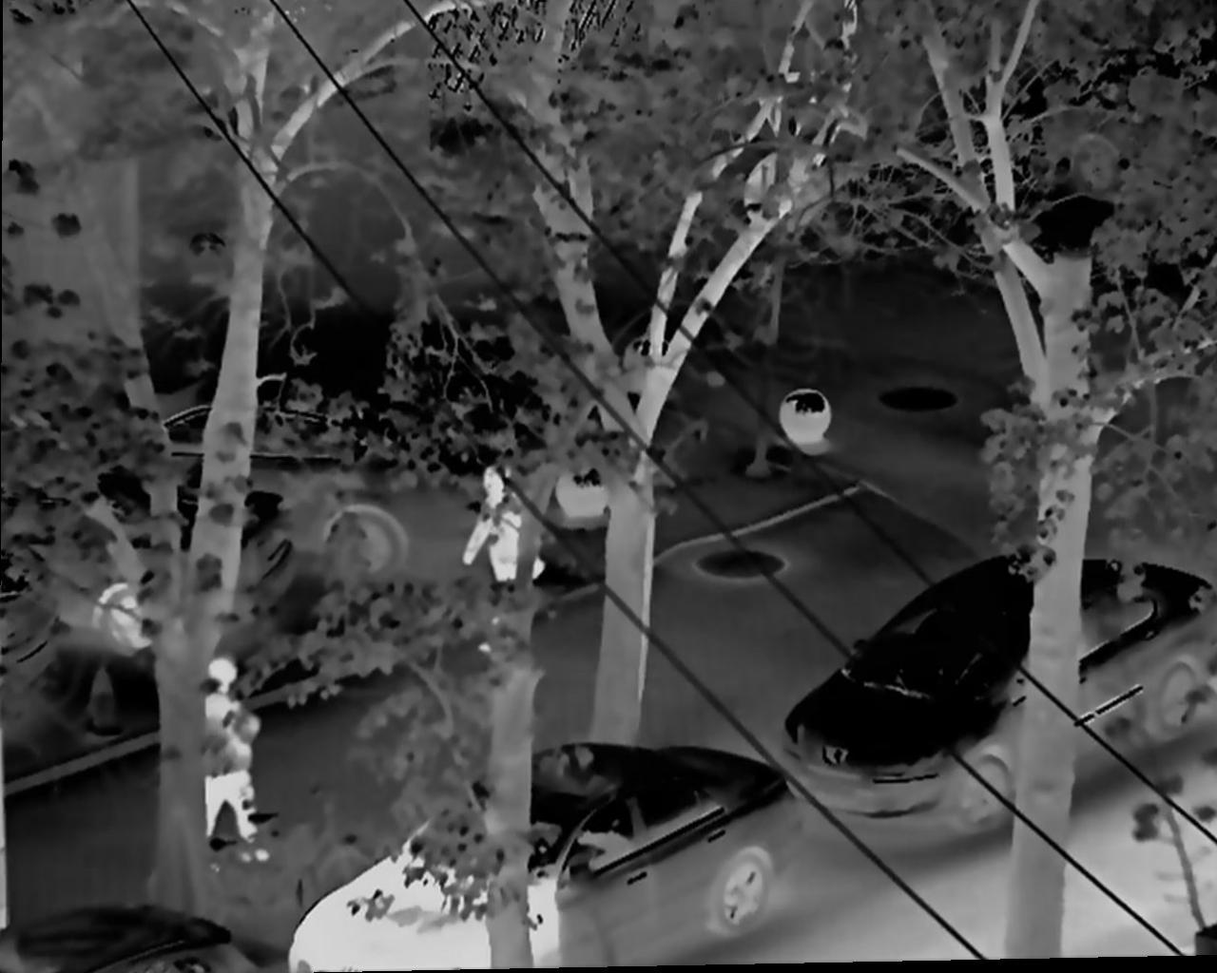person: (461, 457, 547, 671), (198, 657, 273, 865)
